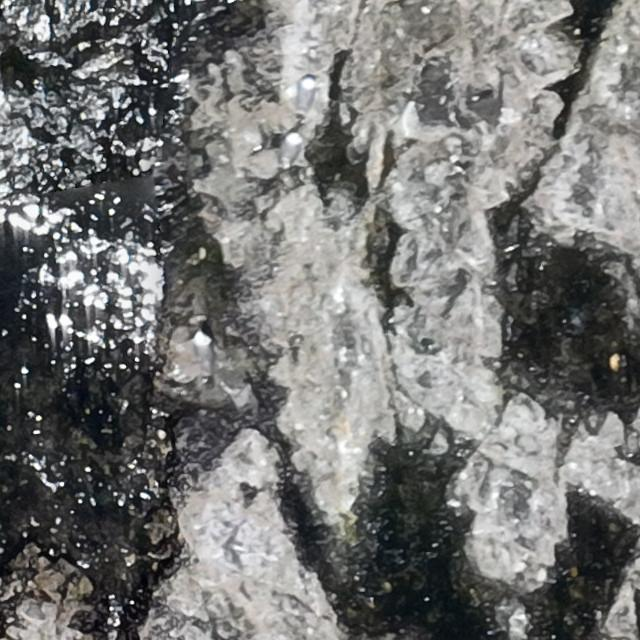umineko: (282, 132, 301, 164), (298, 79, 314, 112), (193, 332, 208, 358)
